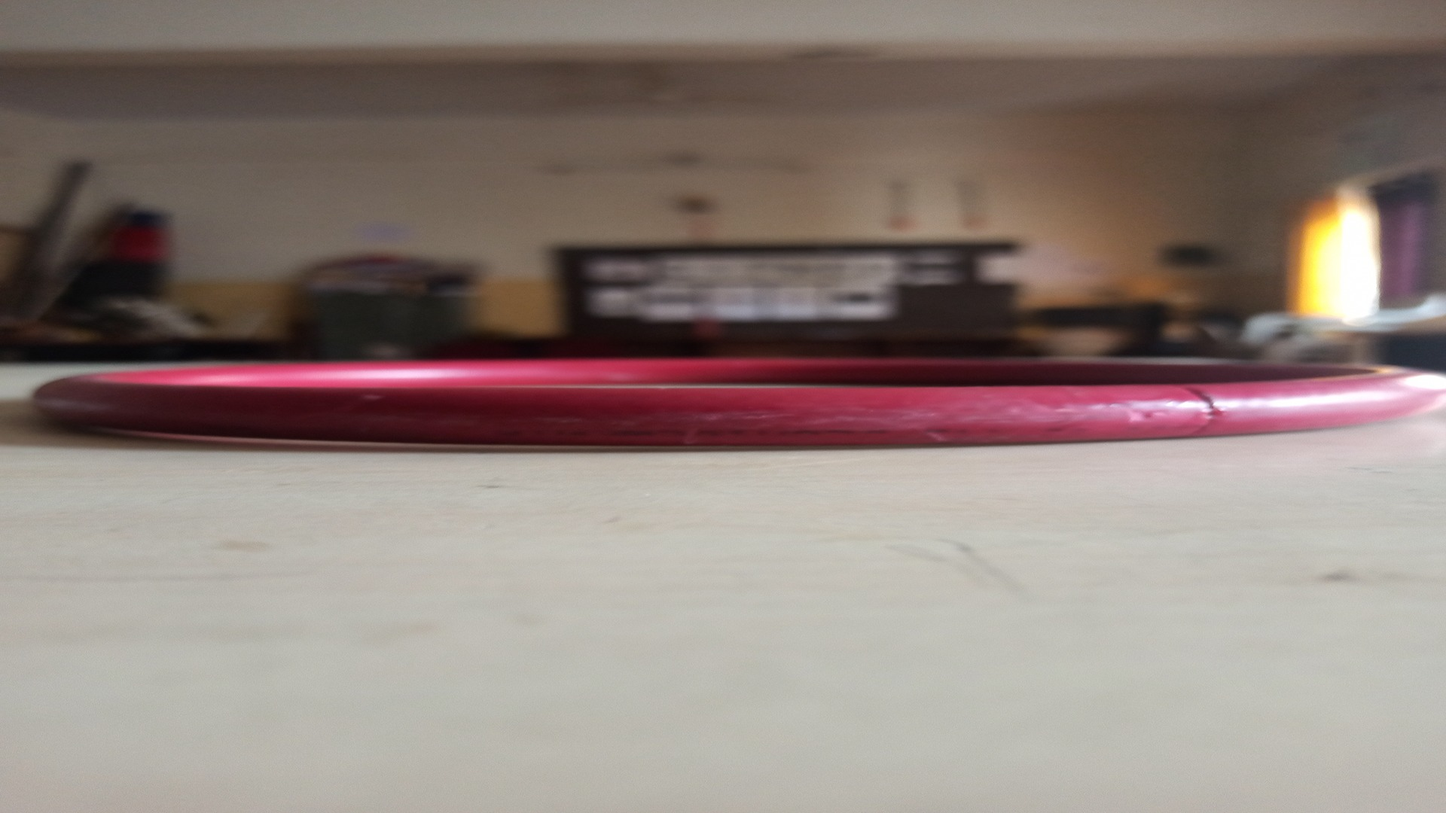Red ring: (35, 353, 1446, 453)
